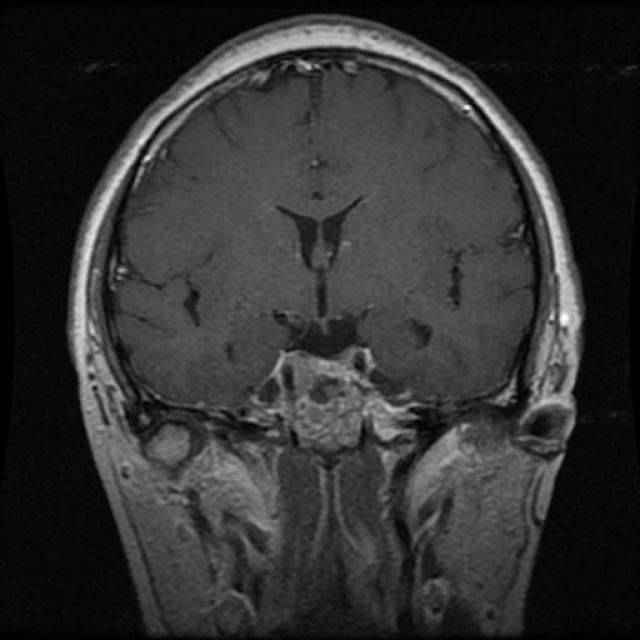pituitary: (264, 334, 406, 456)
